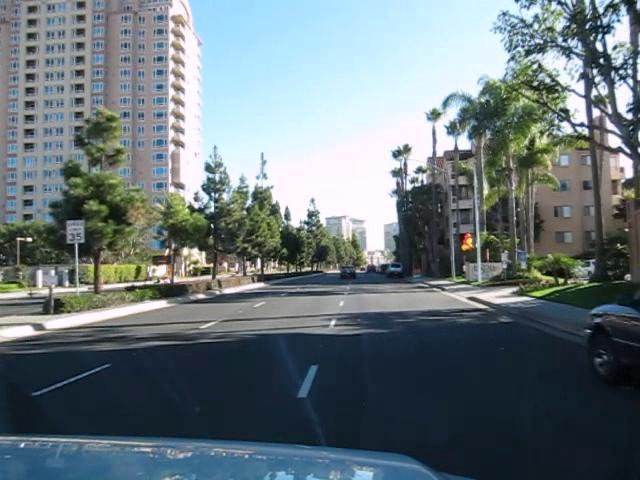speedLimit35: (65, 219, 85, 244)
